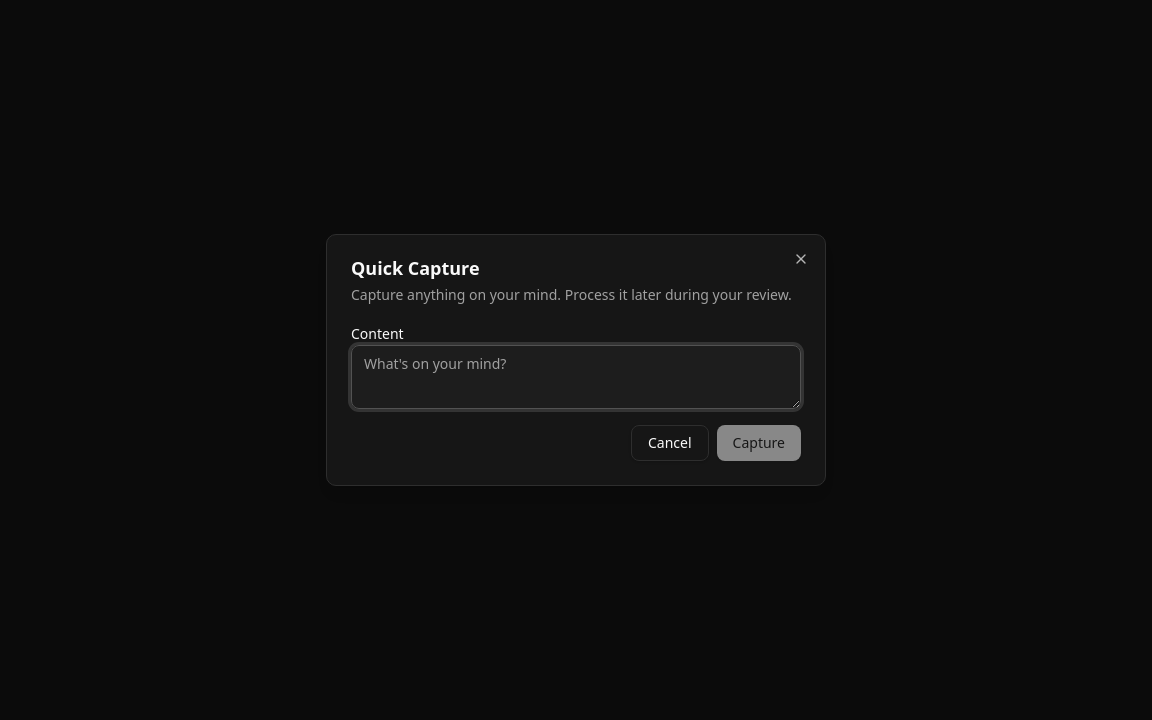
Test: UniversalCapture › error handling › shows error message when API fails
In the text box with placeholder "What's on your mind?": (576, 377) [351,345,801,409], type "Test thought"
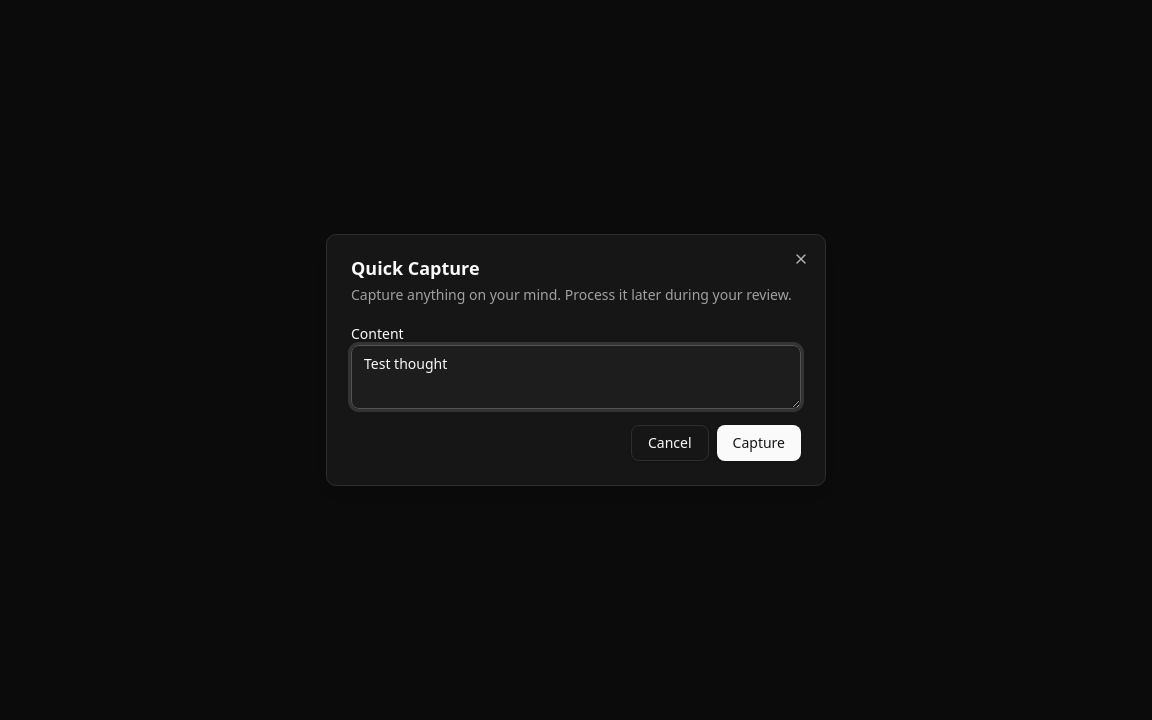
Click the button "Capture": (759, 443) [717,425,801,461]
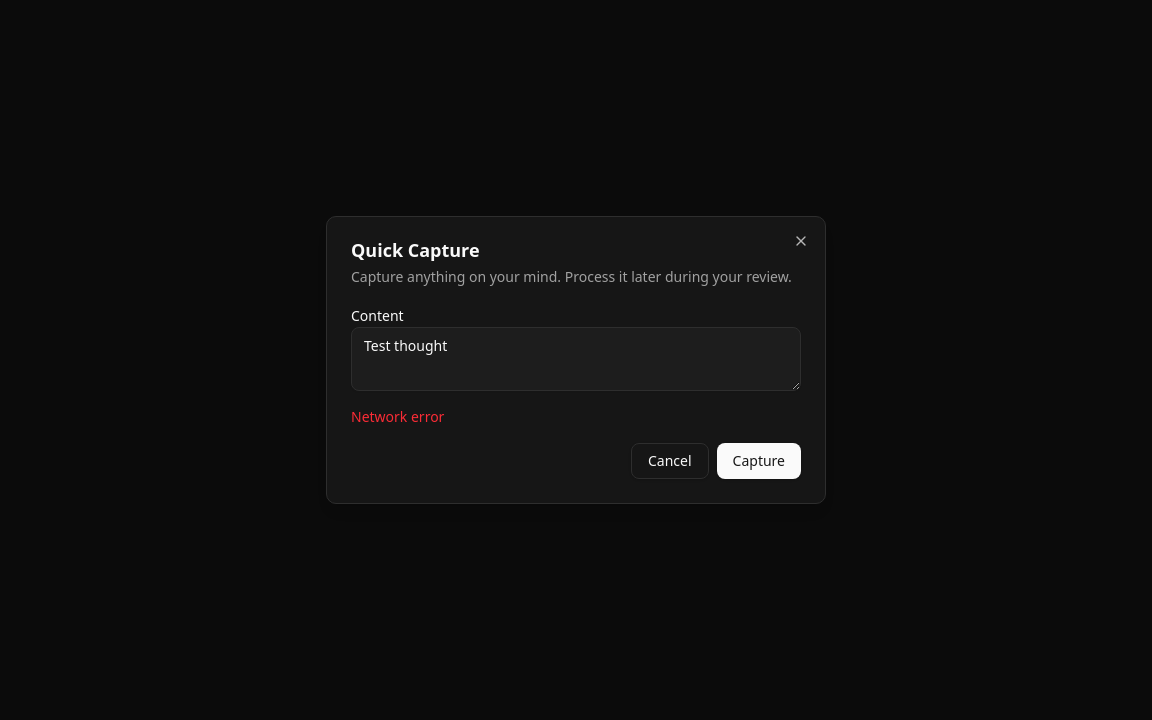
Check: the text "Network error" is shown, box [351,407,444,426]
